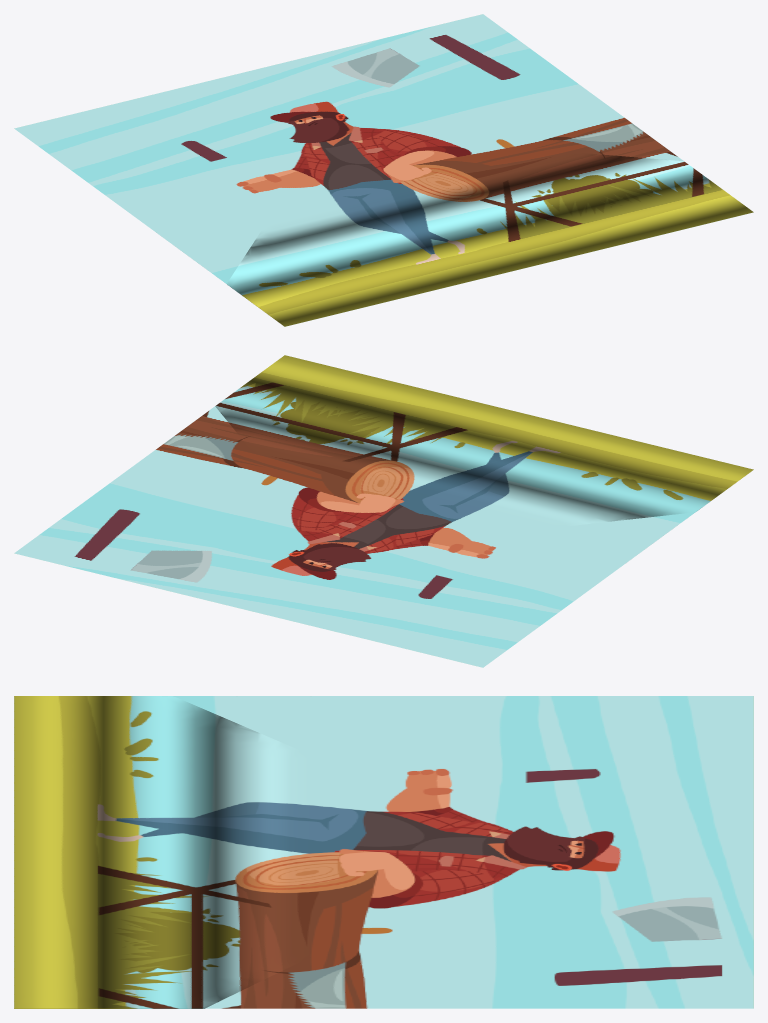
File: Level 78.fbx
3 views of the same model, one above another, from view 1: azimuth 30°, elevation 25°; view 2: azimuth 150°, elevation 25°; view 3: azimuth 270°, elevation 25° (orthographic). The views are drawn at different scales.
Parts seen in each view (by area): view 1: background, road; view 2: background, road; view 3: background, road.
Boxes of the visible parts, bbox=[...] form: background: bbox=[14, 14, 683, 283]; road: bbox=[227, 152, 753, 326]; background: bbox=[14, 406, 694, 667]; road: bbox=[215, 355, 753, 527]; background: bbox=[174, 696, 753, 1008]; road: bbox=[14, 696, 309, 1008].
Size of the model in its own units: 2400 by 0.5973 by 2400.
